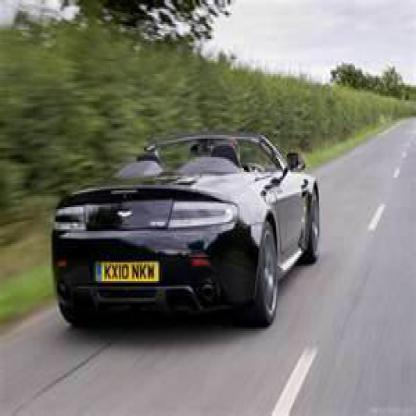Vehicle: (54, 137, 323, 333)
